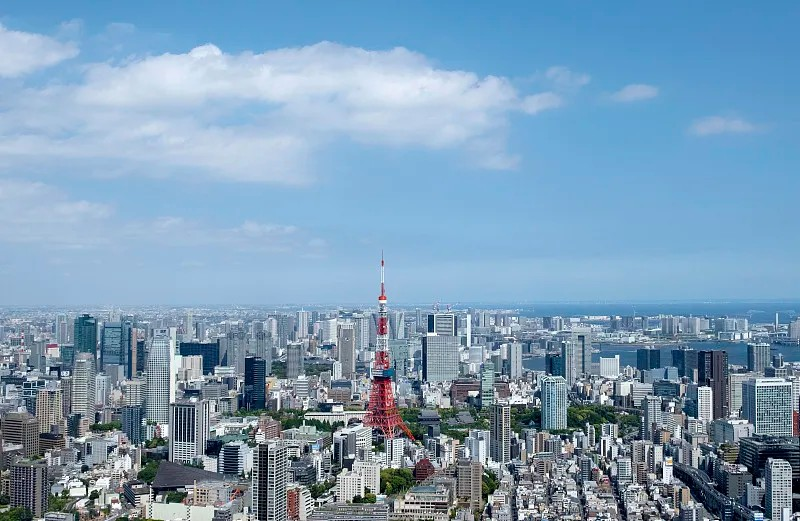Tokyo: (361, 246, 417, 444)
